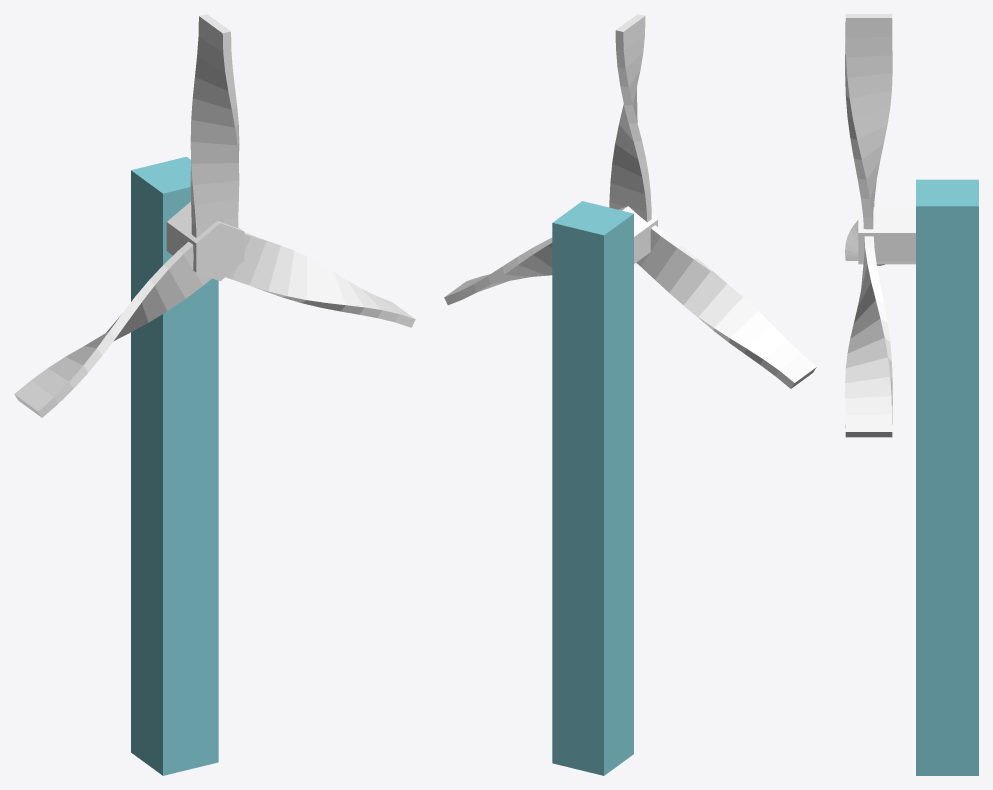
Rendered from wind_turbine.glb.
3 views of the same model, side by side, from view 1: azimuth 30°, elevation 25°; view 2: azimuth 150°, elevation 25°; view 3: azimuth 270°, elevation 25° (orthographic). The views are drawn at different scales.
Visible parts, largest first — view 1: WindTurbine, Blades; view 2: WindTurbine, Blades; view 3: WindTurbine, Blades.
Boxes of the visible parts, x1,y1,x2,y2 form: WindTurbine: (131, 156, 218, 775); Blades: (14, 14, 415, 417); WindTurbine: (552, 201, 633, 775); Blades: (444, 14, 816, 388); WindTurbine: (916, 179, 978, 775); Blades: (845, 14, 915, 437).
Size of the model in its own units: 2.72 by 5.24 by 0.8512.
